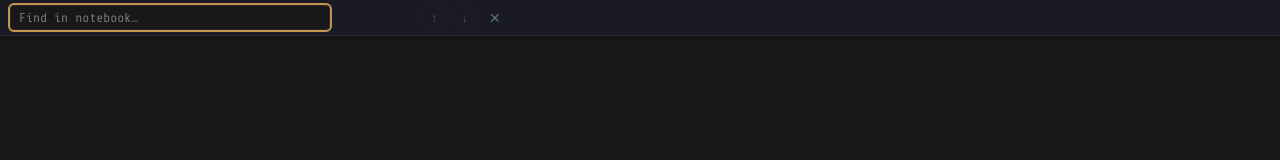
Test: FindBar › shows "No matches" for unmatched query
In the field with placeholder "Find in notebook…": [170, 18] box x1=10 y1=5 x2=330 y2=30, type "zzz"
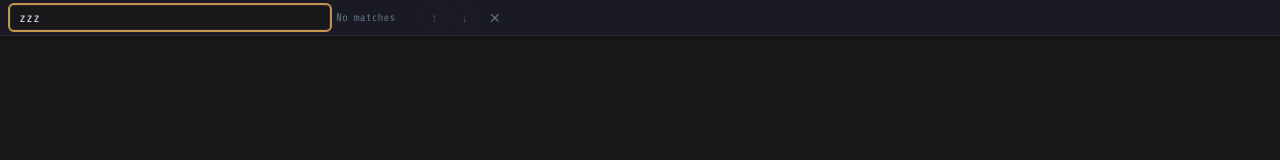
Expected: the text "No matches" is shown, x1=336 y1=11 x2=395 y2=24
